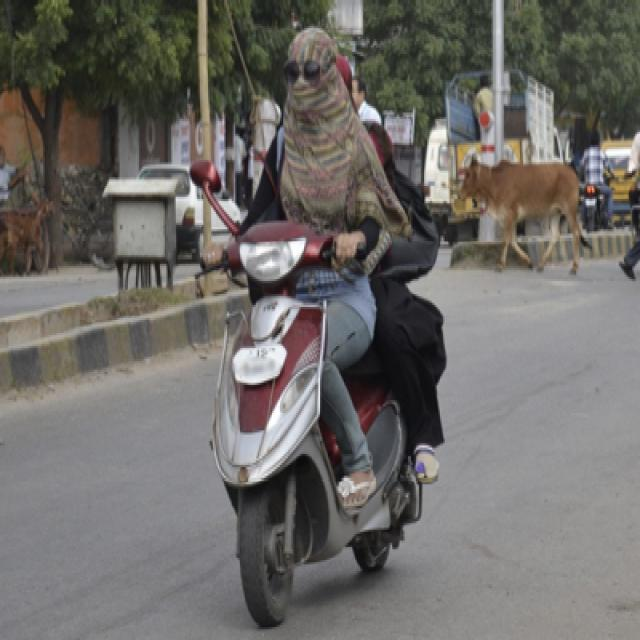motorcycle: (178, 16, 450, 632), (270, 24, 338, 135)
